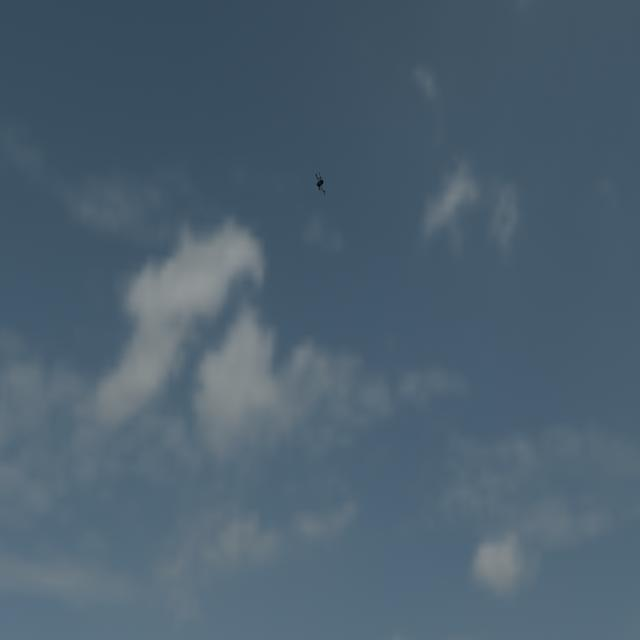drone: (315, 171, 326, 195)
